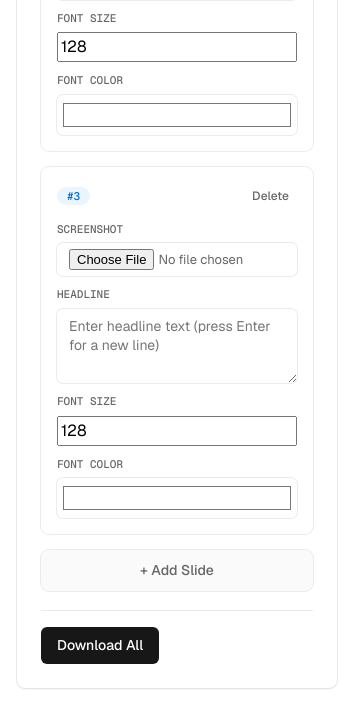
Test case: ComposerPage › caps the slide count at six items
(page scrolled)
Click the button "+ Add Slide".
click(177, 571)  # box top-left (41, 550), bottom-right (313, 591)
(page scrolled)
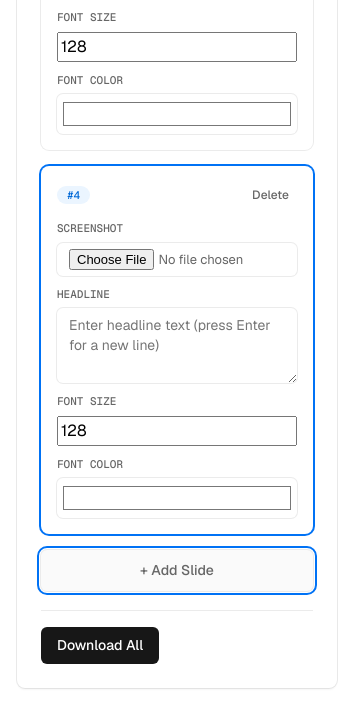
Click the button "+ Add Slide".
click(177, 571)  # box top-left (41, 550), bottom-right (313, 591)
(page scrolled)
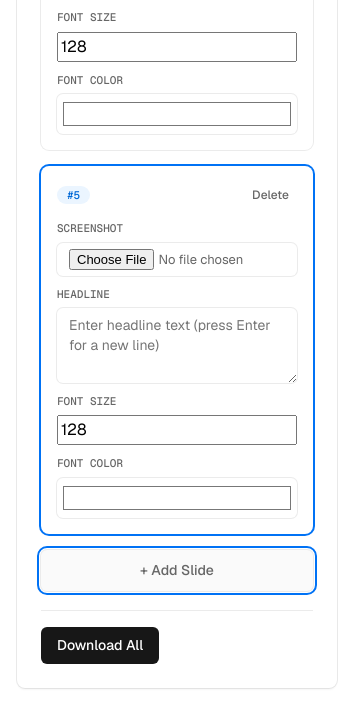
Click the button "+ Add Slide".
click(177, 570)  # box top-left (41, 550), bottom-right (313, 591)
(page scrolled)
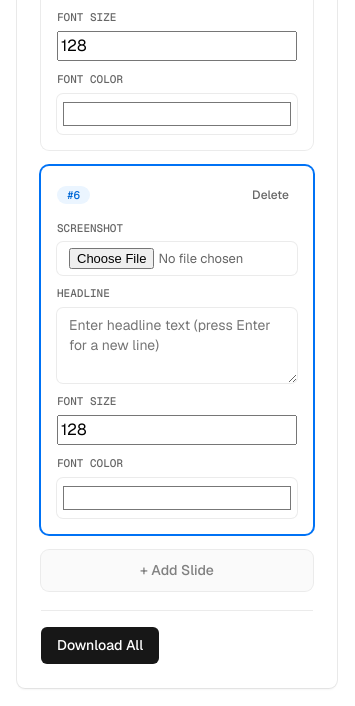
Expected: the button "+ Add Slide" is disabled, top-left (41, 550), bottom-right (313, 591)
